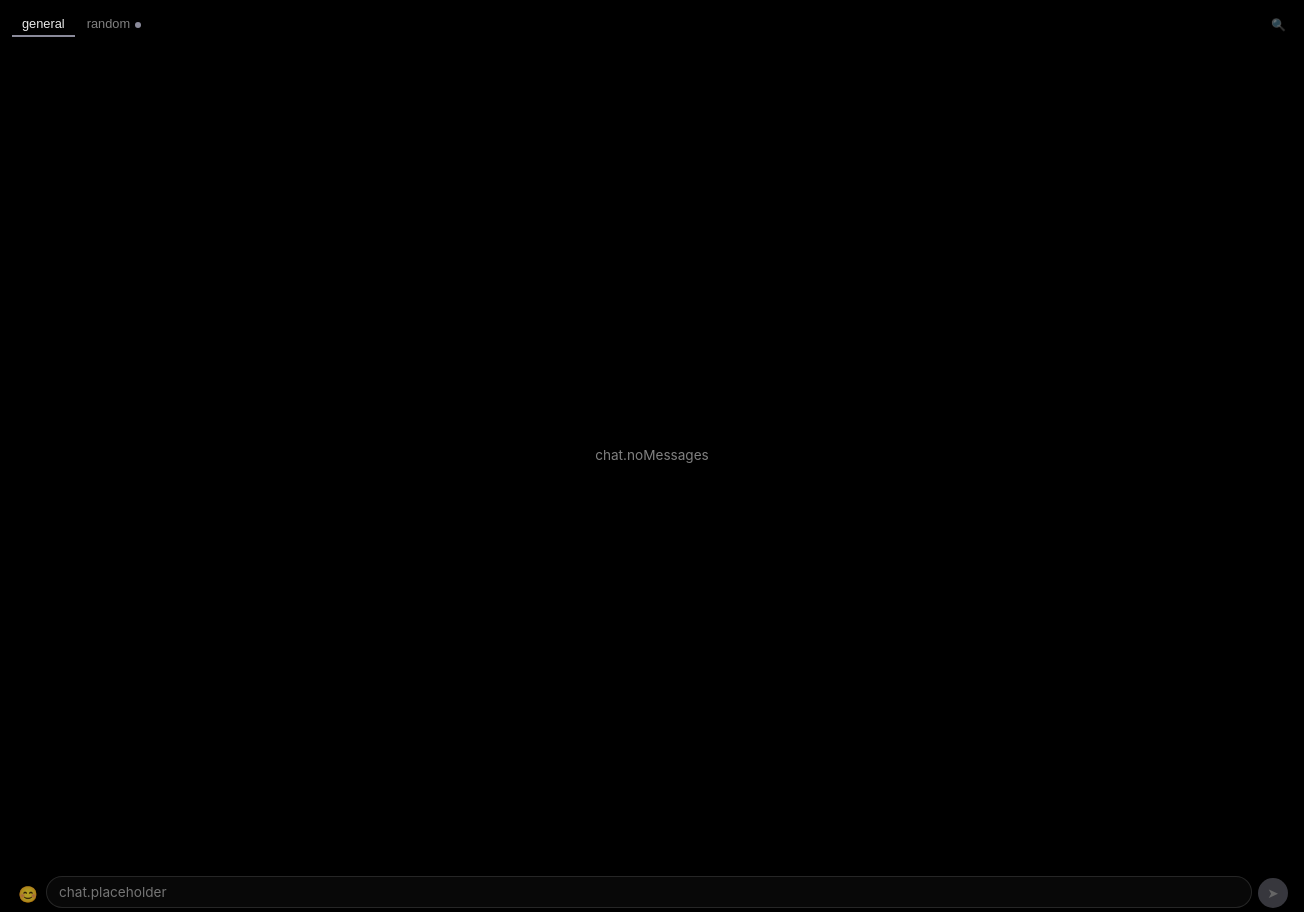
Test: ChatWidget — unread tab dots › clears the dot when the tab becomes active
This screenshot has width=1304, height=912.
Check: the element named "Unread" is shown, box [135,22,141,28]
Click the tab "random" at (114, 24), box [77,12,151,37]
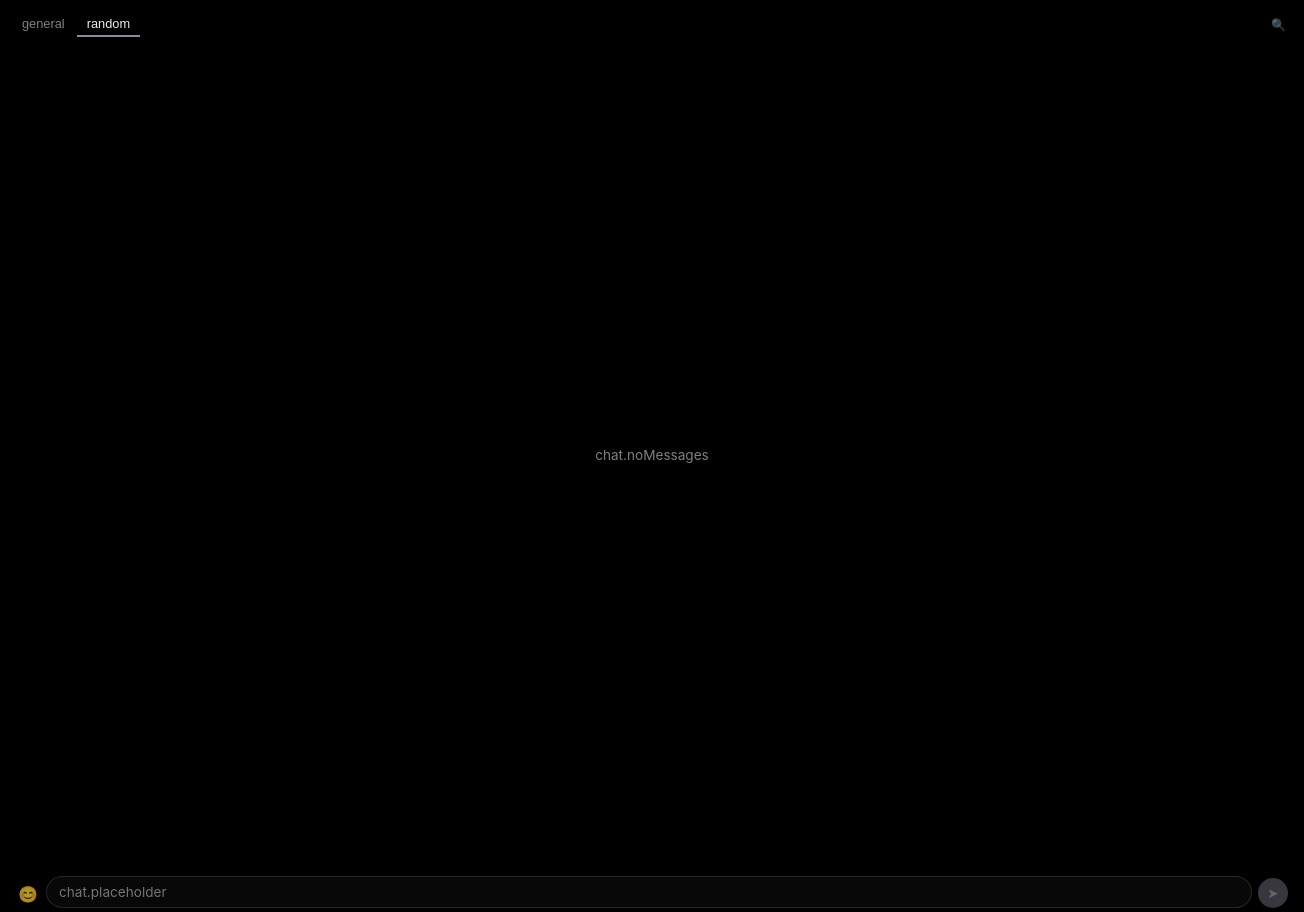
Check: the field labelled "Unread" is gone
